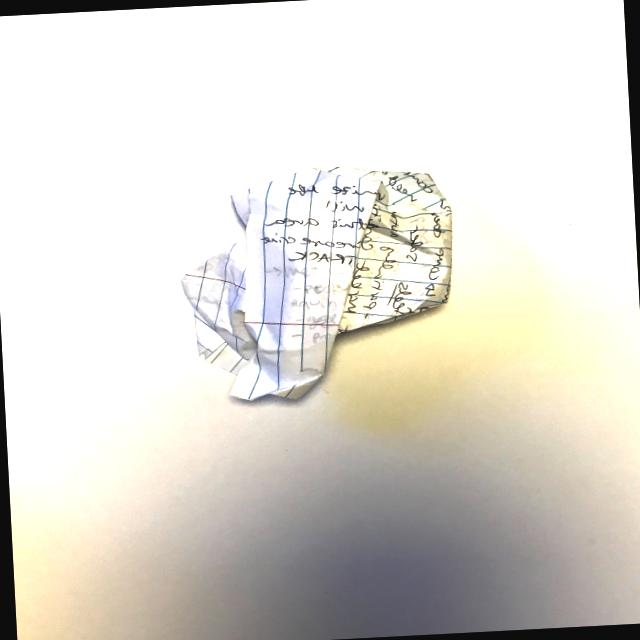Paper: (158, 132, 482, 420)
